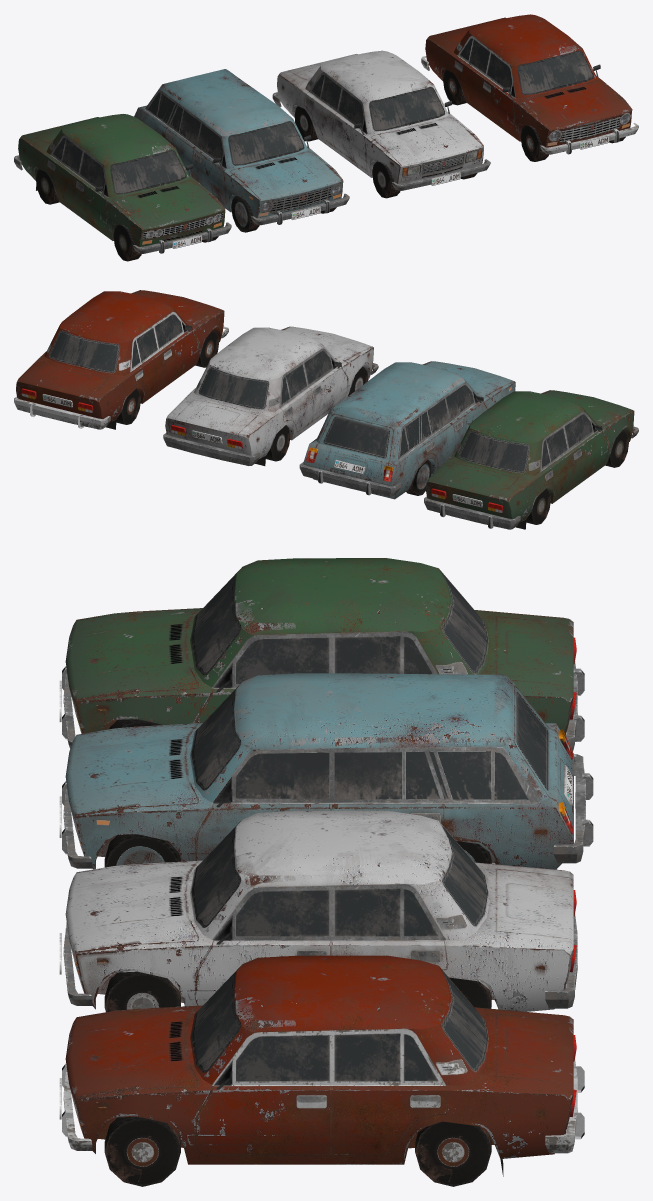
The picture shows the model from 3 angles, top to bottom: view 1: azimuth 30°, elevation 25°; view 2: azimuth 150°, elevation 25°; view 3: azimuth 270°, elevation 25°; orthographic projection. The views are drawn at different scales.
Visible parts, largest first — view 1: zhiguli_green, zhiguli_red, zhiguli_gray, zhiguli_blue; view 2: zhiguli_green, zhiguli_red, zhiguli_gray, zhiguli_blue; view 3: zhiguli_red, zhiguli_blue, zhiguli_gray, zhiguli_green.
Boxes of the visible parts, x1,y1,x2,y2 form: zhiguli_green: (14, 114, 231, 261); zhiguli_red: (421, 14, 638, 161); zhiguli_gray: (272, 50, 490, 198); zhiguli_blue: (134, 69, 349, 232); zhiguli_green: (424, 390, 638, 529); zhiguli_red: (14, 290, 228, 429); zhiguli_gray: (163, 326, 378, 465); zhiguli_blue: (299, 361, 515, 499); zhiguli_red: (59, 955, 584, 1186); zhiguli_blue: (59, 673, 593, 869); zhiguli_gray: (59, 810, 577, 1012); zhiguli_green: (59, 558, 584, 751).
Bounding box in the file's own units: 9.29 × 1.43 × 4.25.
Materials: 4 (4 with a texture image).
